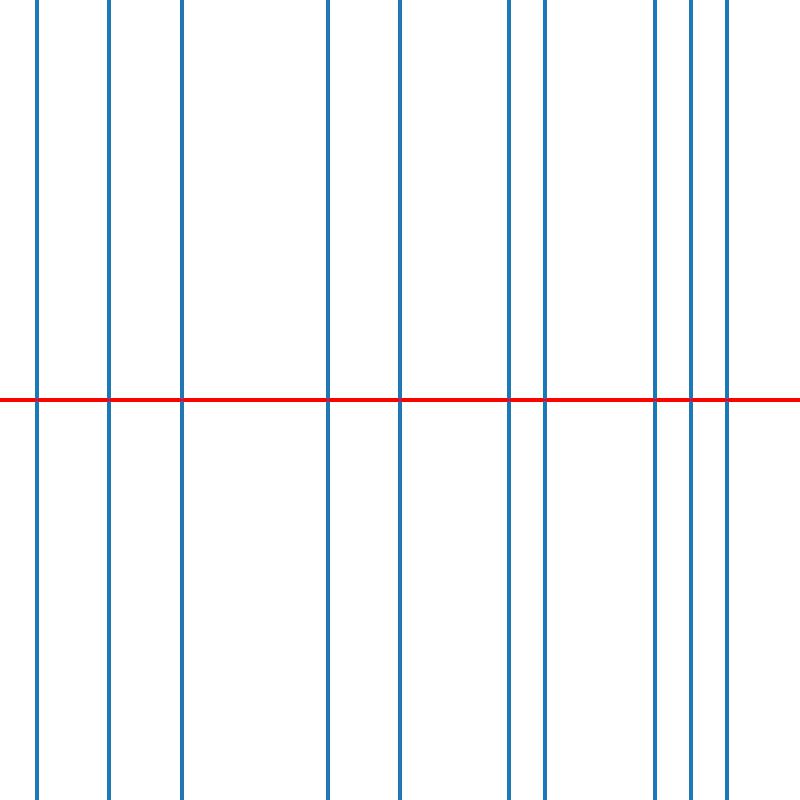root: (650, 396, 658, 404), (541, 396, 549, 404), (32, 396, 40, 404), (396, 396, 403, 404), (323, 396, 330, 404), (723, 396, 730, 404), (505, 396, 512, 404), (105, 396, 112, 404), (178, 396, 185, 404), (687, 396, 694, 404)
